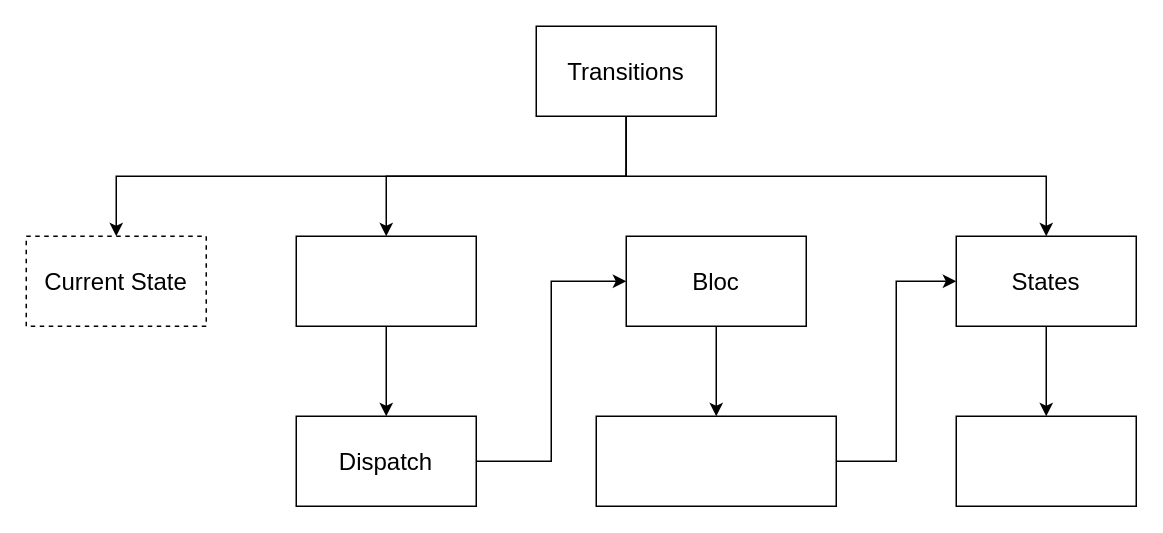
The diagram is 1163 pixels wide and 533 high, and some of its shapes have lost their labels. The shapes that lost their labels are listed below. From the top down, each one's centre as x and y in pixels, then its label:
At point 385,280: "Events".
At point 715,460: "mapEventToState".
At point 1045,460: "UI".
